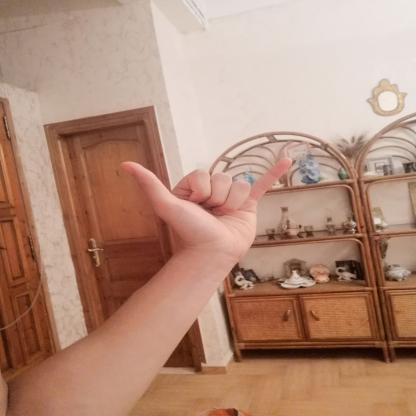YA: (112, 148, 308, 264)
